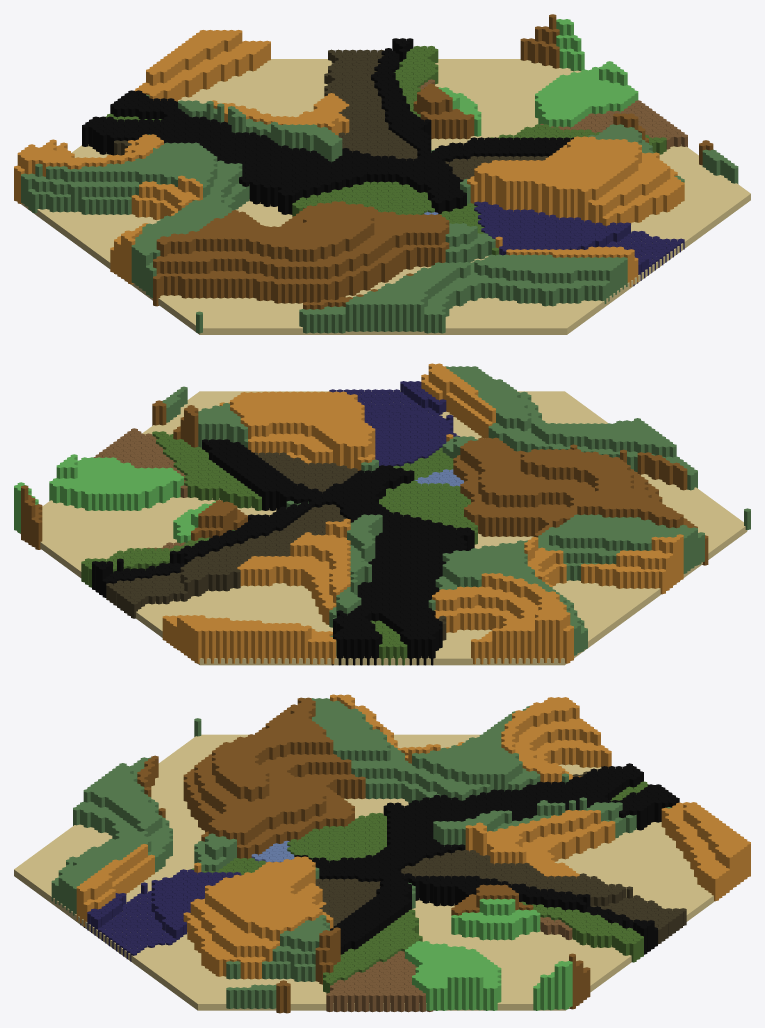
The model's file is 0034_tile_1221110.fbx.
3 renders of one model, top to bottom at view 1: azimuth 30°, elevation 25°; view 2: azimuth 150°, elevation 25°; view 3: azimuth 270°, elevation 25°, orthographic.
Parts seen in each view (by area): view 1: Plane; view 2: Plane; view 3: Plane.
Boxes of the visible parts, x1,y1,x2,y2 form: Plane: [14, 14, 750, 334]; Plane: [14, 363, 750, 665]; Plane: [14, 694, 750, 1013].
Bounding box in the file's own units: 1008 × 90.38 × 1152.
